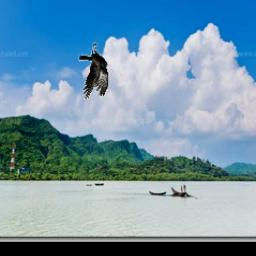Crow: (78, 41, 108, 101)
